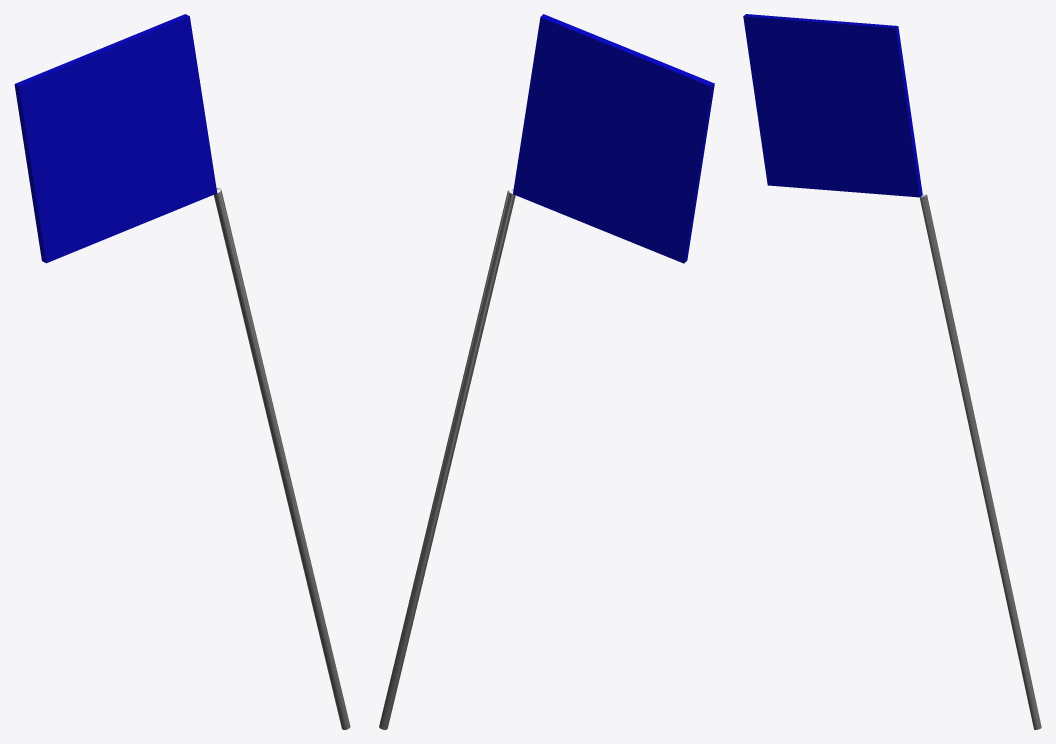
Rendered from blue_flag.dae.
The picture shows the model from 3 angles, left to right: view 1: azimuth 30°, elevation 25°; view 2: azimuth 150°, elevation 25°; view 3: azimuth 330°, elevation 25°; orthographic projection. The views are drawn at different scales.
Parts seen in each view (by area): view 1: SketchUp (×2); view 2: SketchUp (×2); view 3: SketchUp (×2).
Boxes of the visible parts, bbox=[...] form: SketchUp (×2): bbox=[14, 14, 350, 729]; SketchUp (×2): bbox=[379, 14, 714, 729]; SketchUp (×2): bbox=[743, 14, 1041, 729].
Size of the model in its own units: 13.54 by 0.3164 by 29.16.
